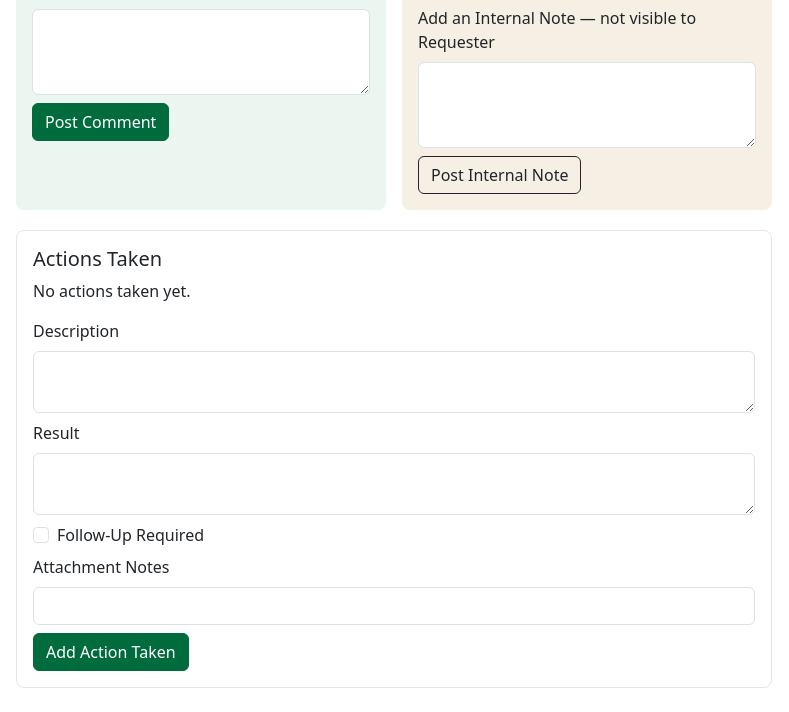
StaffTicketDetail - Actions Taken create (UI-01, UI-02) › creates an Action Taken and the new item appears in the list
The width and height of the screenshot is (789, 712).
(page scrolled)
Check: the text "No actions taken yet." is shown, box [33,280,191,302]
In the text box labelled "Description": (394, 382) [33,351,755,413], type "Checked the device logs."
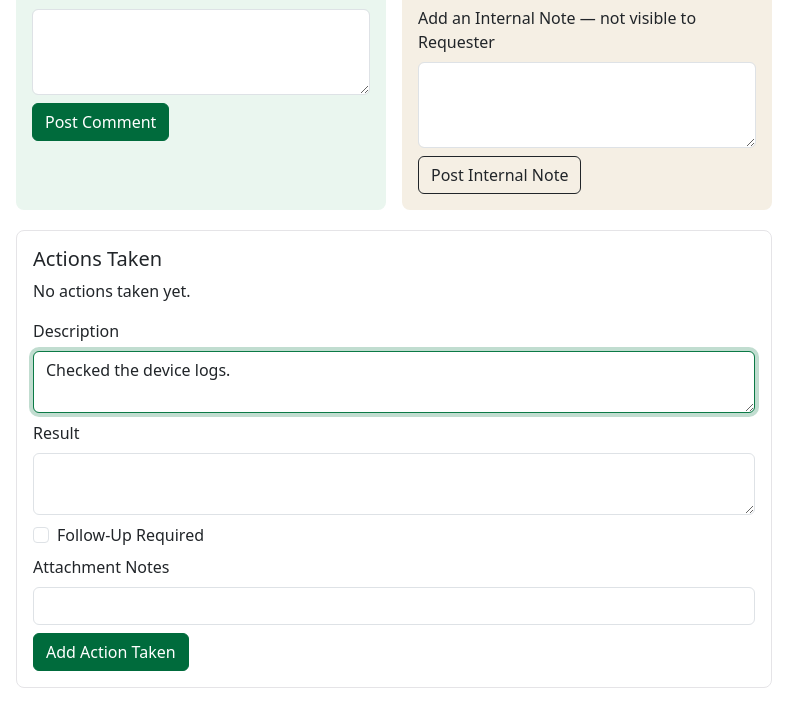
In the text box labelled "Result": (394, 484) [33,453,755,515], type "Found a relevant error."
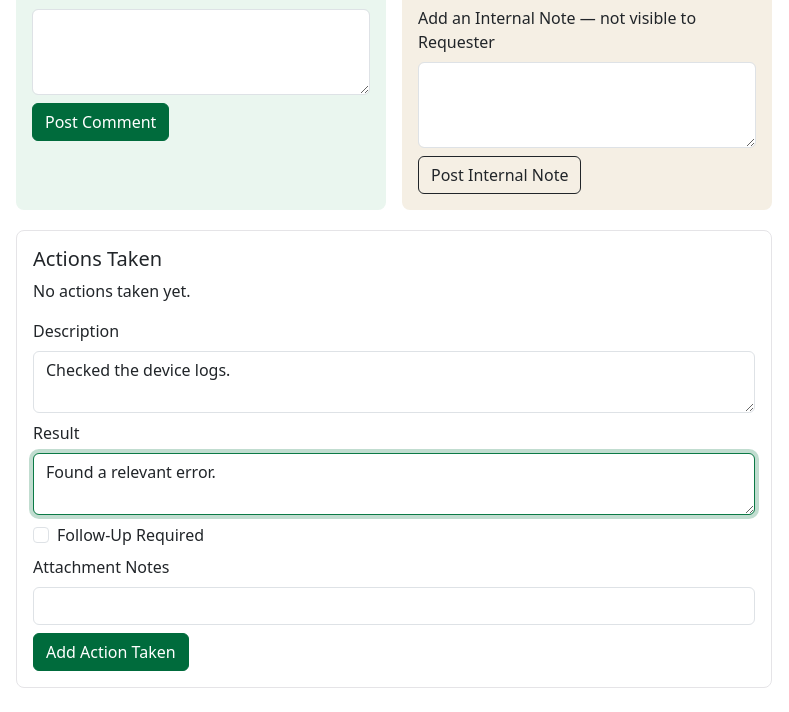
Click the button "Add Action Taken": (111, 652) [33,633,189,671]
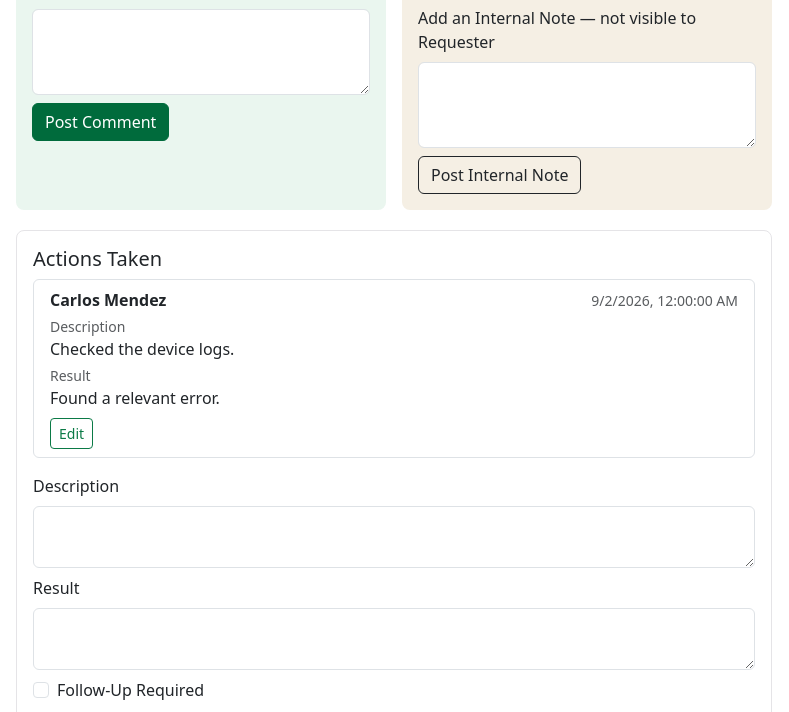
Check: the text "Checked the device logs." is shown, box [50,338,234,360]
Check: the text "No actions taken yet." is gone
